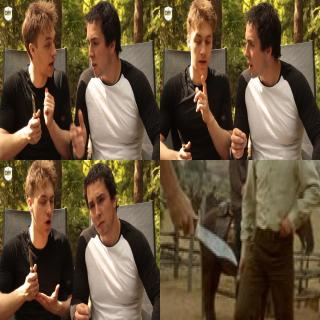knife: (175, 202, 239, 266), (25, 240, 40, 288), (27, 89, 42, 135), (175, 122, 193, 160)
